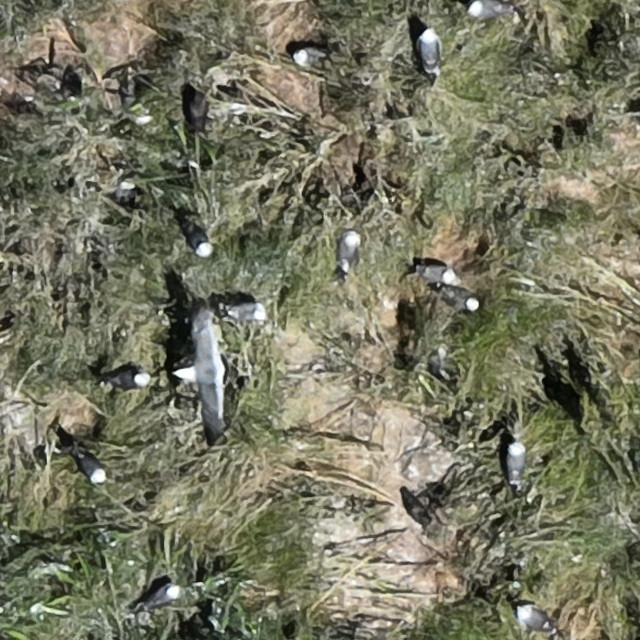F: (187, 322, 233, 436)
umineko: (122, 70, 158, 126), (78, 454, 106, 484), (517, 606, 549, 632), (144, 584, 180, 606), (418, 30, 438, 69), (224, 302, 263, 322), (338, 230, 358, 268), (443, 288, 476, 310), (107, 370, 147, 388), (419, 264, 454, 284), (507, 442, 525, 479), (469, 1, 507, 18), (190, 227, 212, 255), (294, 48, 322, 66)
